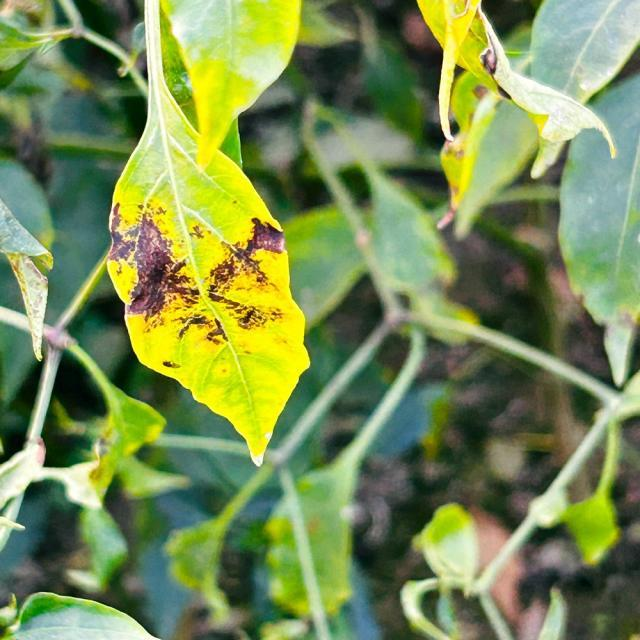Bercak Daun Serkospora: (106, 0, 312, 467)
